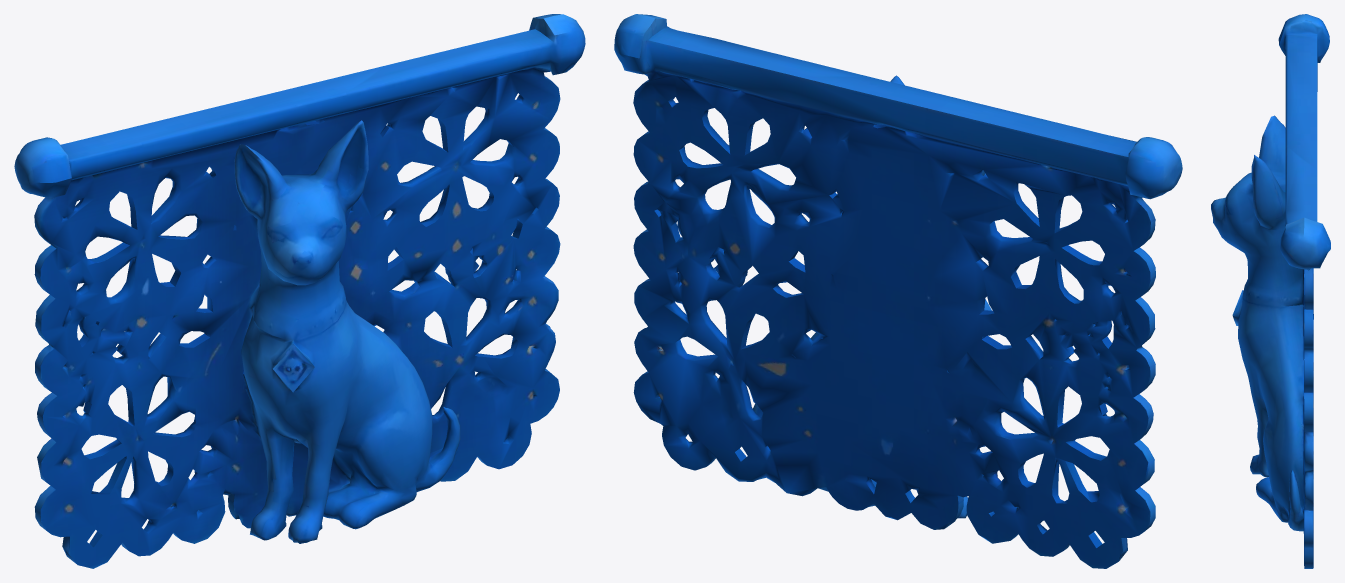
Rendered from papel-picado-perro.glb.
The picture shows the model from 3 angles, left to right: view 1: azimuth 30°, elevation 25°; view 2: azimuth 150°, elevation 25°; view 3: azimuth 270°, elevation 25°; orthographic projection. The views are drawn at different scales.
Visible parts, largest first — view 1: Mesh_0; view 2: Mesh_0; view 3: Mesh_0.
Part boxes in pixels (box(x1,y1,x2,y2)): Mesh_0: box(14, 14, 585, 568); Mesh_0: box(614, 14, 1182, 568); Mesh_0: box(1211, 14, 1330, 568).
Bounding box in the file's own units: 1.9 × 1.44 × 0.4278.
Materials: 1 (1 with a texture image).
